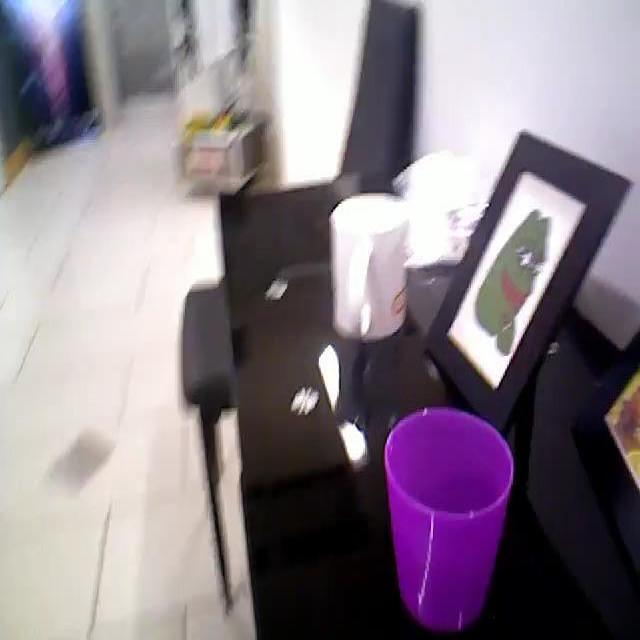cup: (382, 408, 522, 632)
